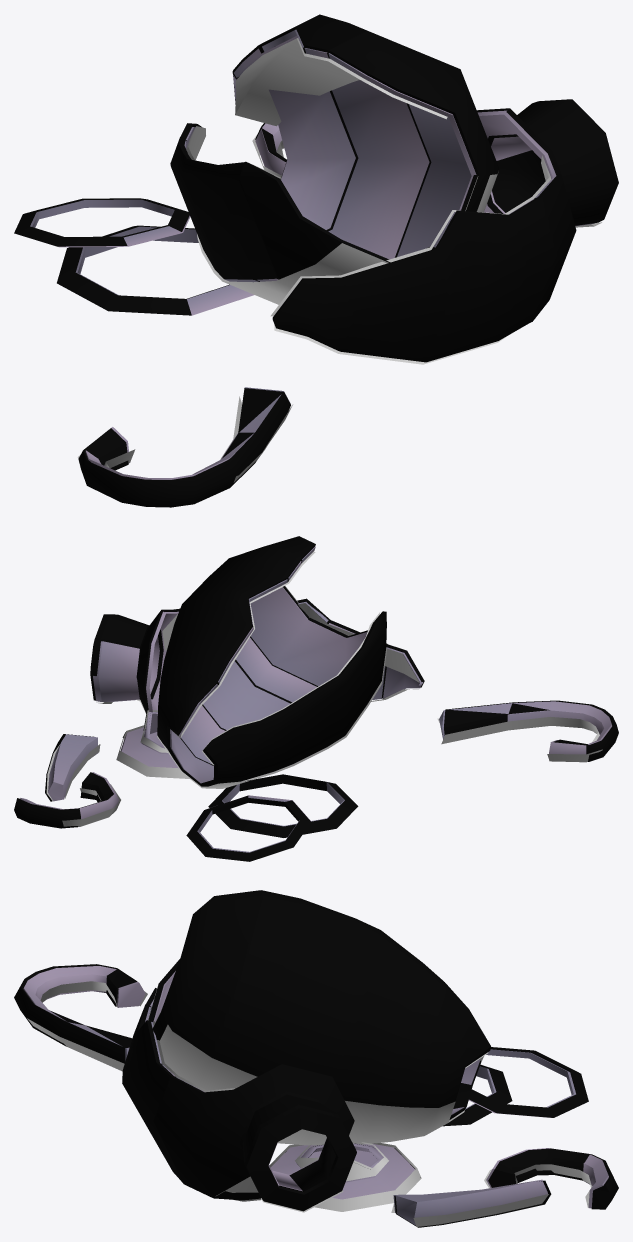
The model's file is Rooms_Paradise_Vase_Broken_Art.fbx.
3 views of the same model, one above another, from view 1: azimuth 30°, elevation 25°; view 2: azimuth 150°, elevation 25°; view 3: azimuth 270°, elevation 25° (orthographic). The views are drawn at different scales.
Parts seen in each view (by area): view 1: Rooms_Paradise_Vase_Broken_Outline_Art, Rooms_Paradise_Vase_Broken_Art, Rooms_Paradise_Vase_Broken_Shadows; view 2: Rooms_Paradise_Vase_Broken_Outline_Art, Rooms_Paradise_Vase_Broken_Art, Rooms_Paradise_Vase_Broken_Shadows; view 3: Rooms_Paradise_Vase_Broken_Outline_Art, Rooms_Paradise_Vase_Broken_Shadows, Rooms_Paradise_Vase_Broken_Art.
Boxes of the visible parts, x1,y1,x2,y2 form: Rooms_Paradise_Vase_Broken_Outline_Art: [14, 14, 618, 507]; Rooms_Paradise_Vase_Broken_Art: [30, 29, 594, 479]; Rooms_Paradise_Vase_Broken_Shadows: [77, 38, 601, 482]; Rooms_Paradise_Vase_Broken_Outline_Art: [14, 536, 618, 861]; Rooms_Paradise_Vase_Broken_Art: [20, 546, 611, 852]; Rooms_Paradise_Vase_Broken_Shadows: [46, 551, 602, 826]; Rooms_Paradise_Vase_Broken_Outline_Art: [14, 890, 618, 1227]; Rooms_Paradise_Vase_Broken_Shadows: [27, 981, 591, 1226]; Rooms_Paradise_Vase_Broken_Art: [23, 966, 608, 1225].
Bounding box in the file's own units: 233 × 104 × 234.
